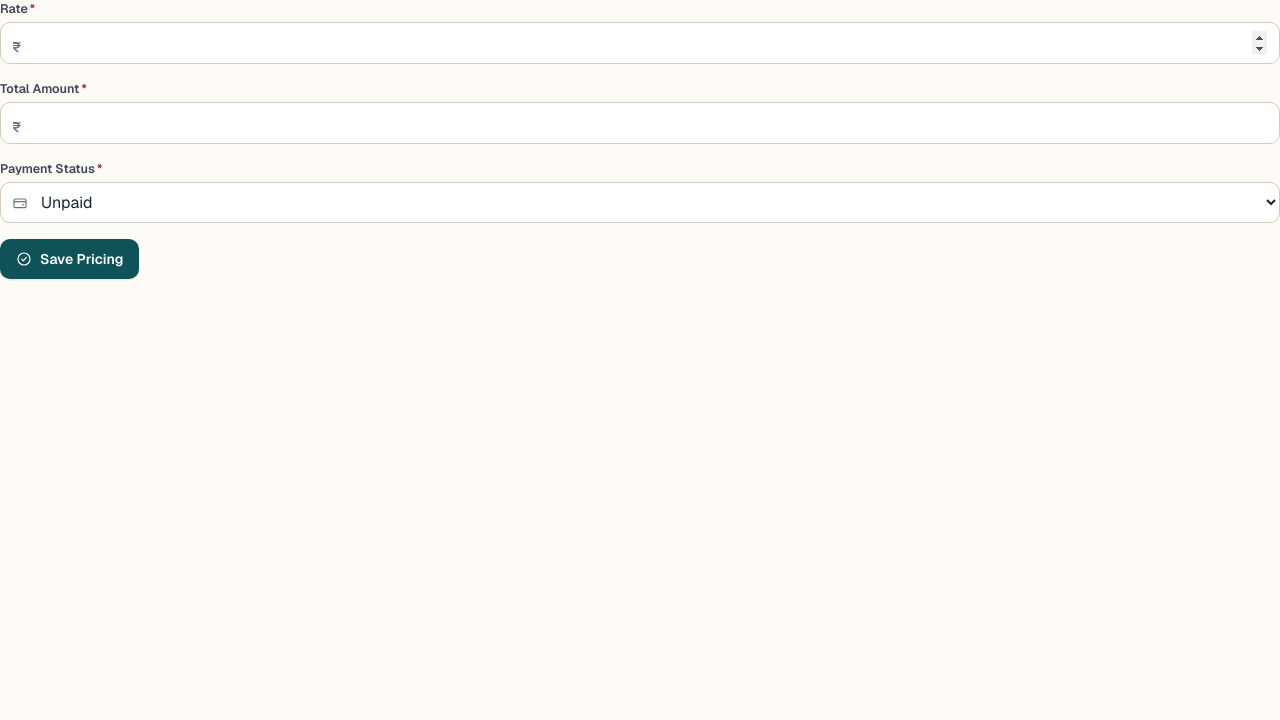
Test: PricingForm › holds a valid submit for confirmation with the entered values replayed
Type "390" into the number field labelled "Rate" at (640, 43), box [0,22,1279,64]
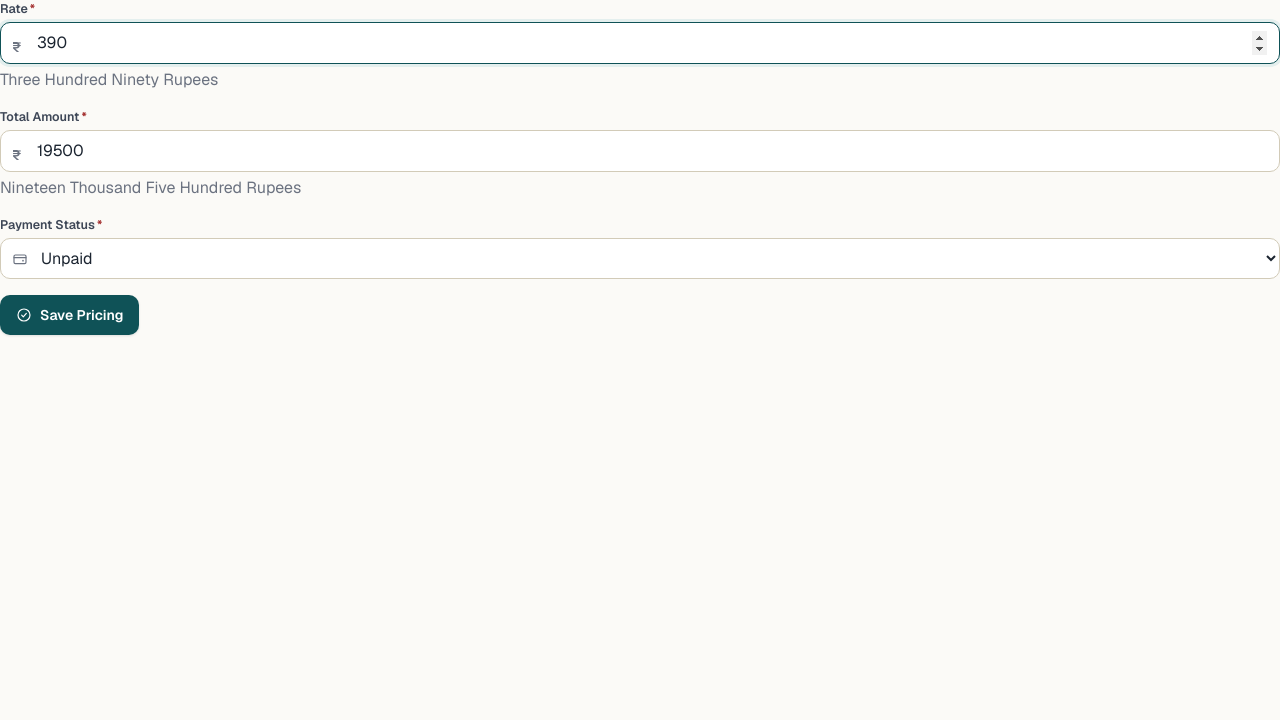
Click the button "Save Pricing" at (70, 315), box [0,295,139,335]
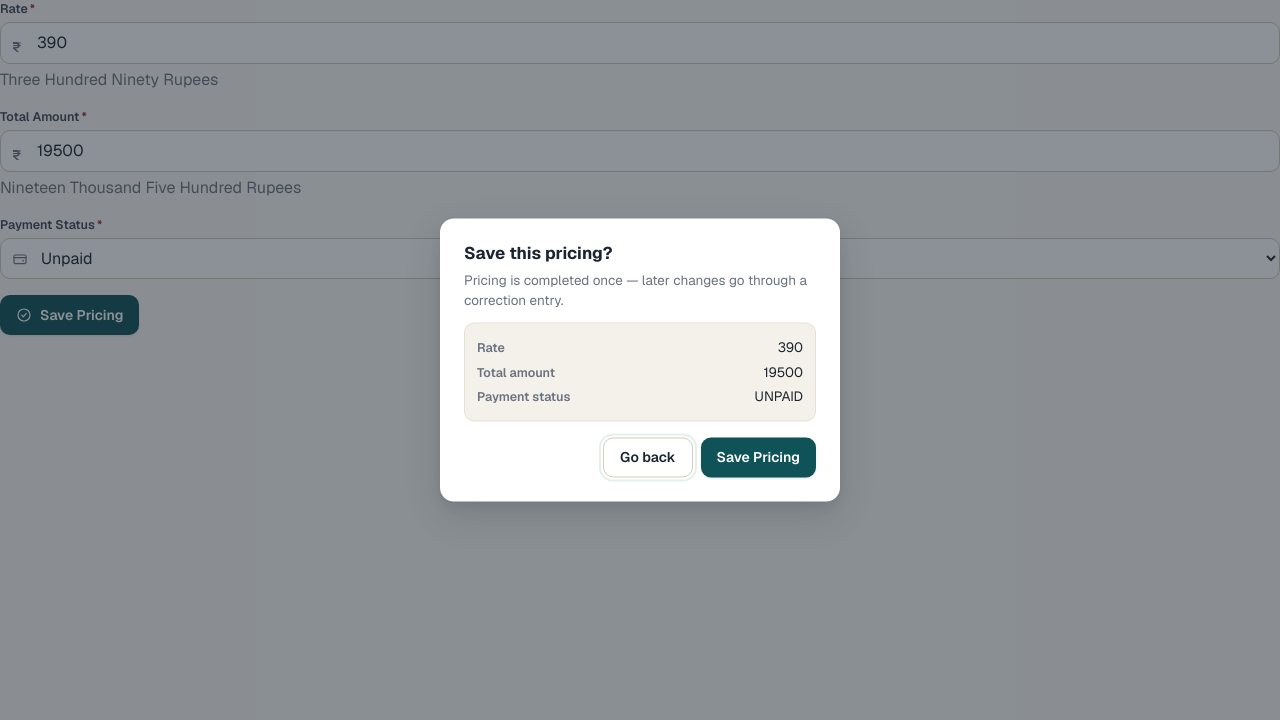
Check: the heading "Save this pricing?" is shown, box [464,242,613,264]
Check: the text "19500" is shown, box [764,362,803,382]
